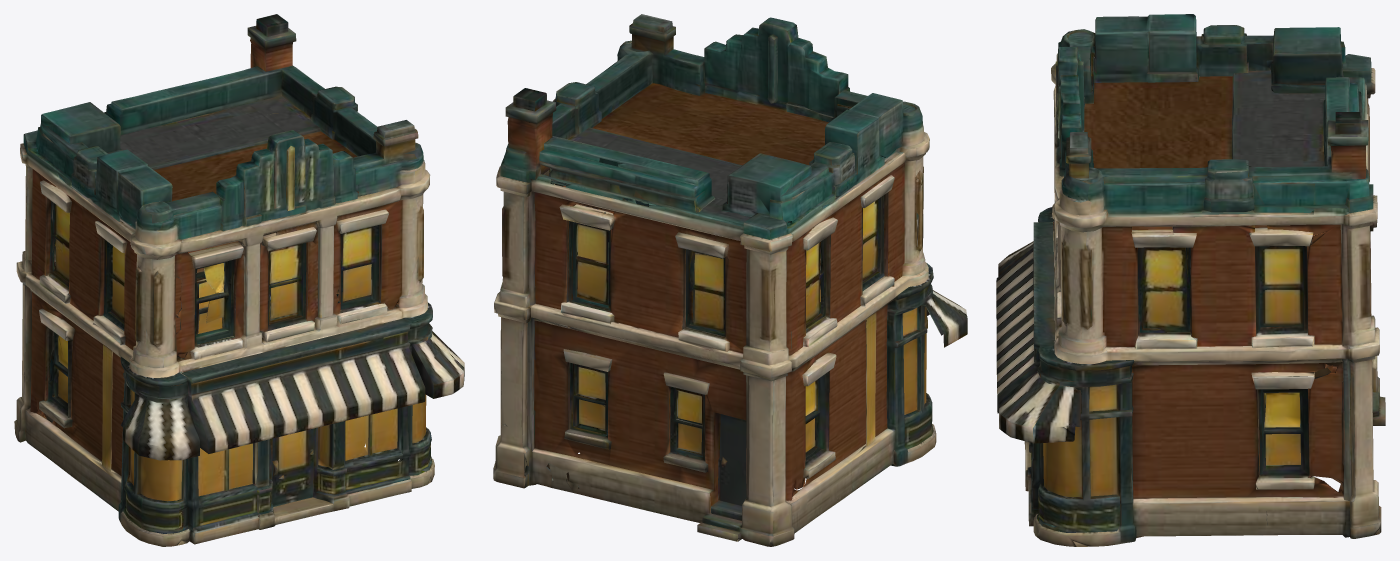
The model's file is candidate.glb.
3 renders of one model, left to right at view 1: azimuth 30°, elevation 25°; view 2: azimuth 150°, elevation 25°; view 3: azimuth 270°, elevation 25°, orthographic. The views are drawn at different scales.
Visible parts, largest first — view 1: expansion__shop_2__native_mobile; view 2: expansion__shop_2__native_mobile; view 3: expansion__shop_2__native_mobile.
Part boxes in pixels (bbox=[...]): expansion__shop_2__native_mobile: bbox=[14, 14, 464, 546]; expansion__shop_2__native_mobile: bbox=[493, 14, 967, 546]; expansion__shop_2__native_mobile: bbox=[996, 14, 1385, 546].
Bounding box in the file's own units: 0.9227 × 1 × 0.8501.
1 material, 1 textured.
